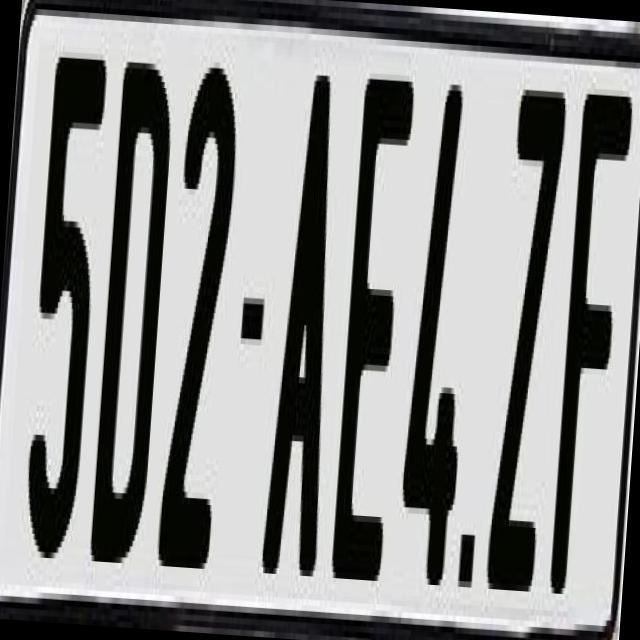2: (154, 48, 240, 574)
4: (392, 71, 487, 586)
5: (16, 56, 110, 595)
A: (256, 61, 354, 600)
D: (88, 44, 185, 576)
E: (330, 61, 420, 576)
F: (544, 88, 636, 596)
Z: (484, 71, 566, 574)
